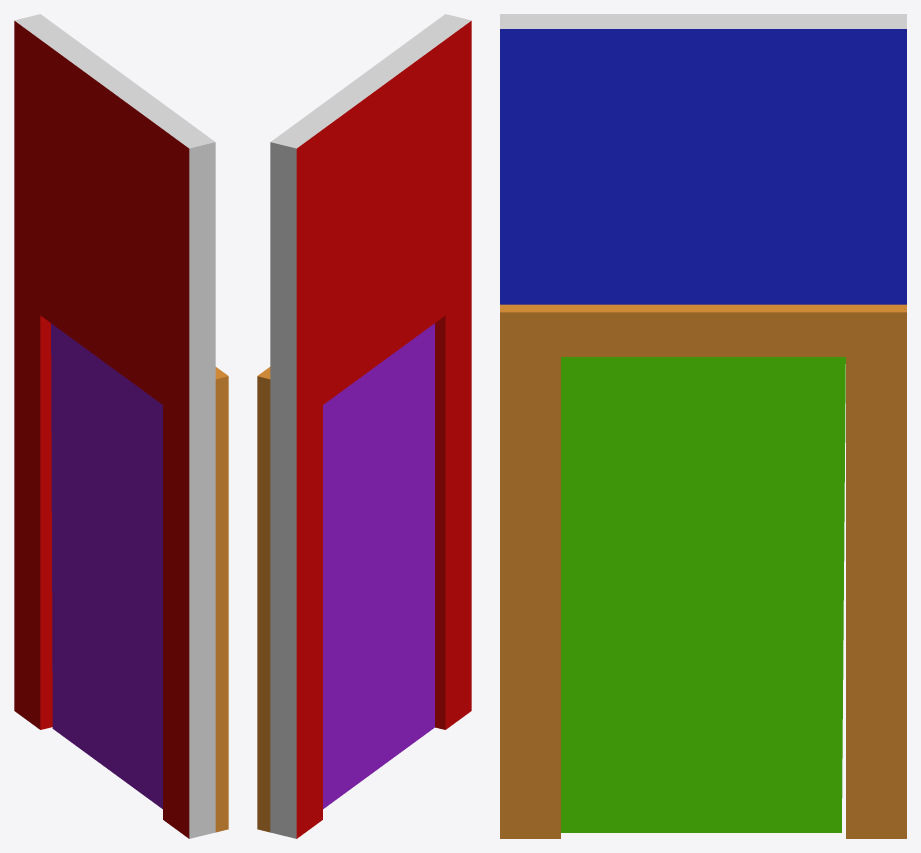
Rendered from Mesh_wall_door_Final2.fbx.
The picture shows the model from 3 angles, left to right: view 1: azimuth 30°, elevation 25°; view 2: azimuth 150°, elevation 25°; view 3: azimuth 270°, elevation 25°; orthographic projection. The views are drawn at different scales.
Parts seen in each view (by area): view 1: mesh_wall_door, mesh_door; view 2: mesh_wall_door, mesh_door; view 3: mesh_wall_door, mesh_door.
Boxes of the visible parts, box(x1,y1,x2,y2) form: mesh_wall_door: box(14, 14, 228, 838); mesh_door: box(51, 323, 162, 808); mesh_wall_door: box(257, 14, 471, 838); mesh_door: box(323, 323, 434, 808); mesh_wall_door: box(500, 14, 906, 838); mesh_door: box(561, 357, 845, 832).
Bounding box in the file's own units: 60.01 × 1000 × 460.
